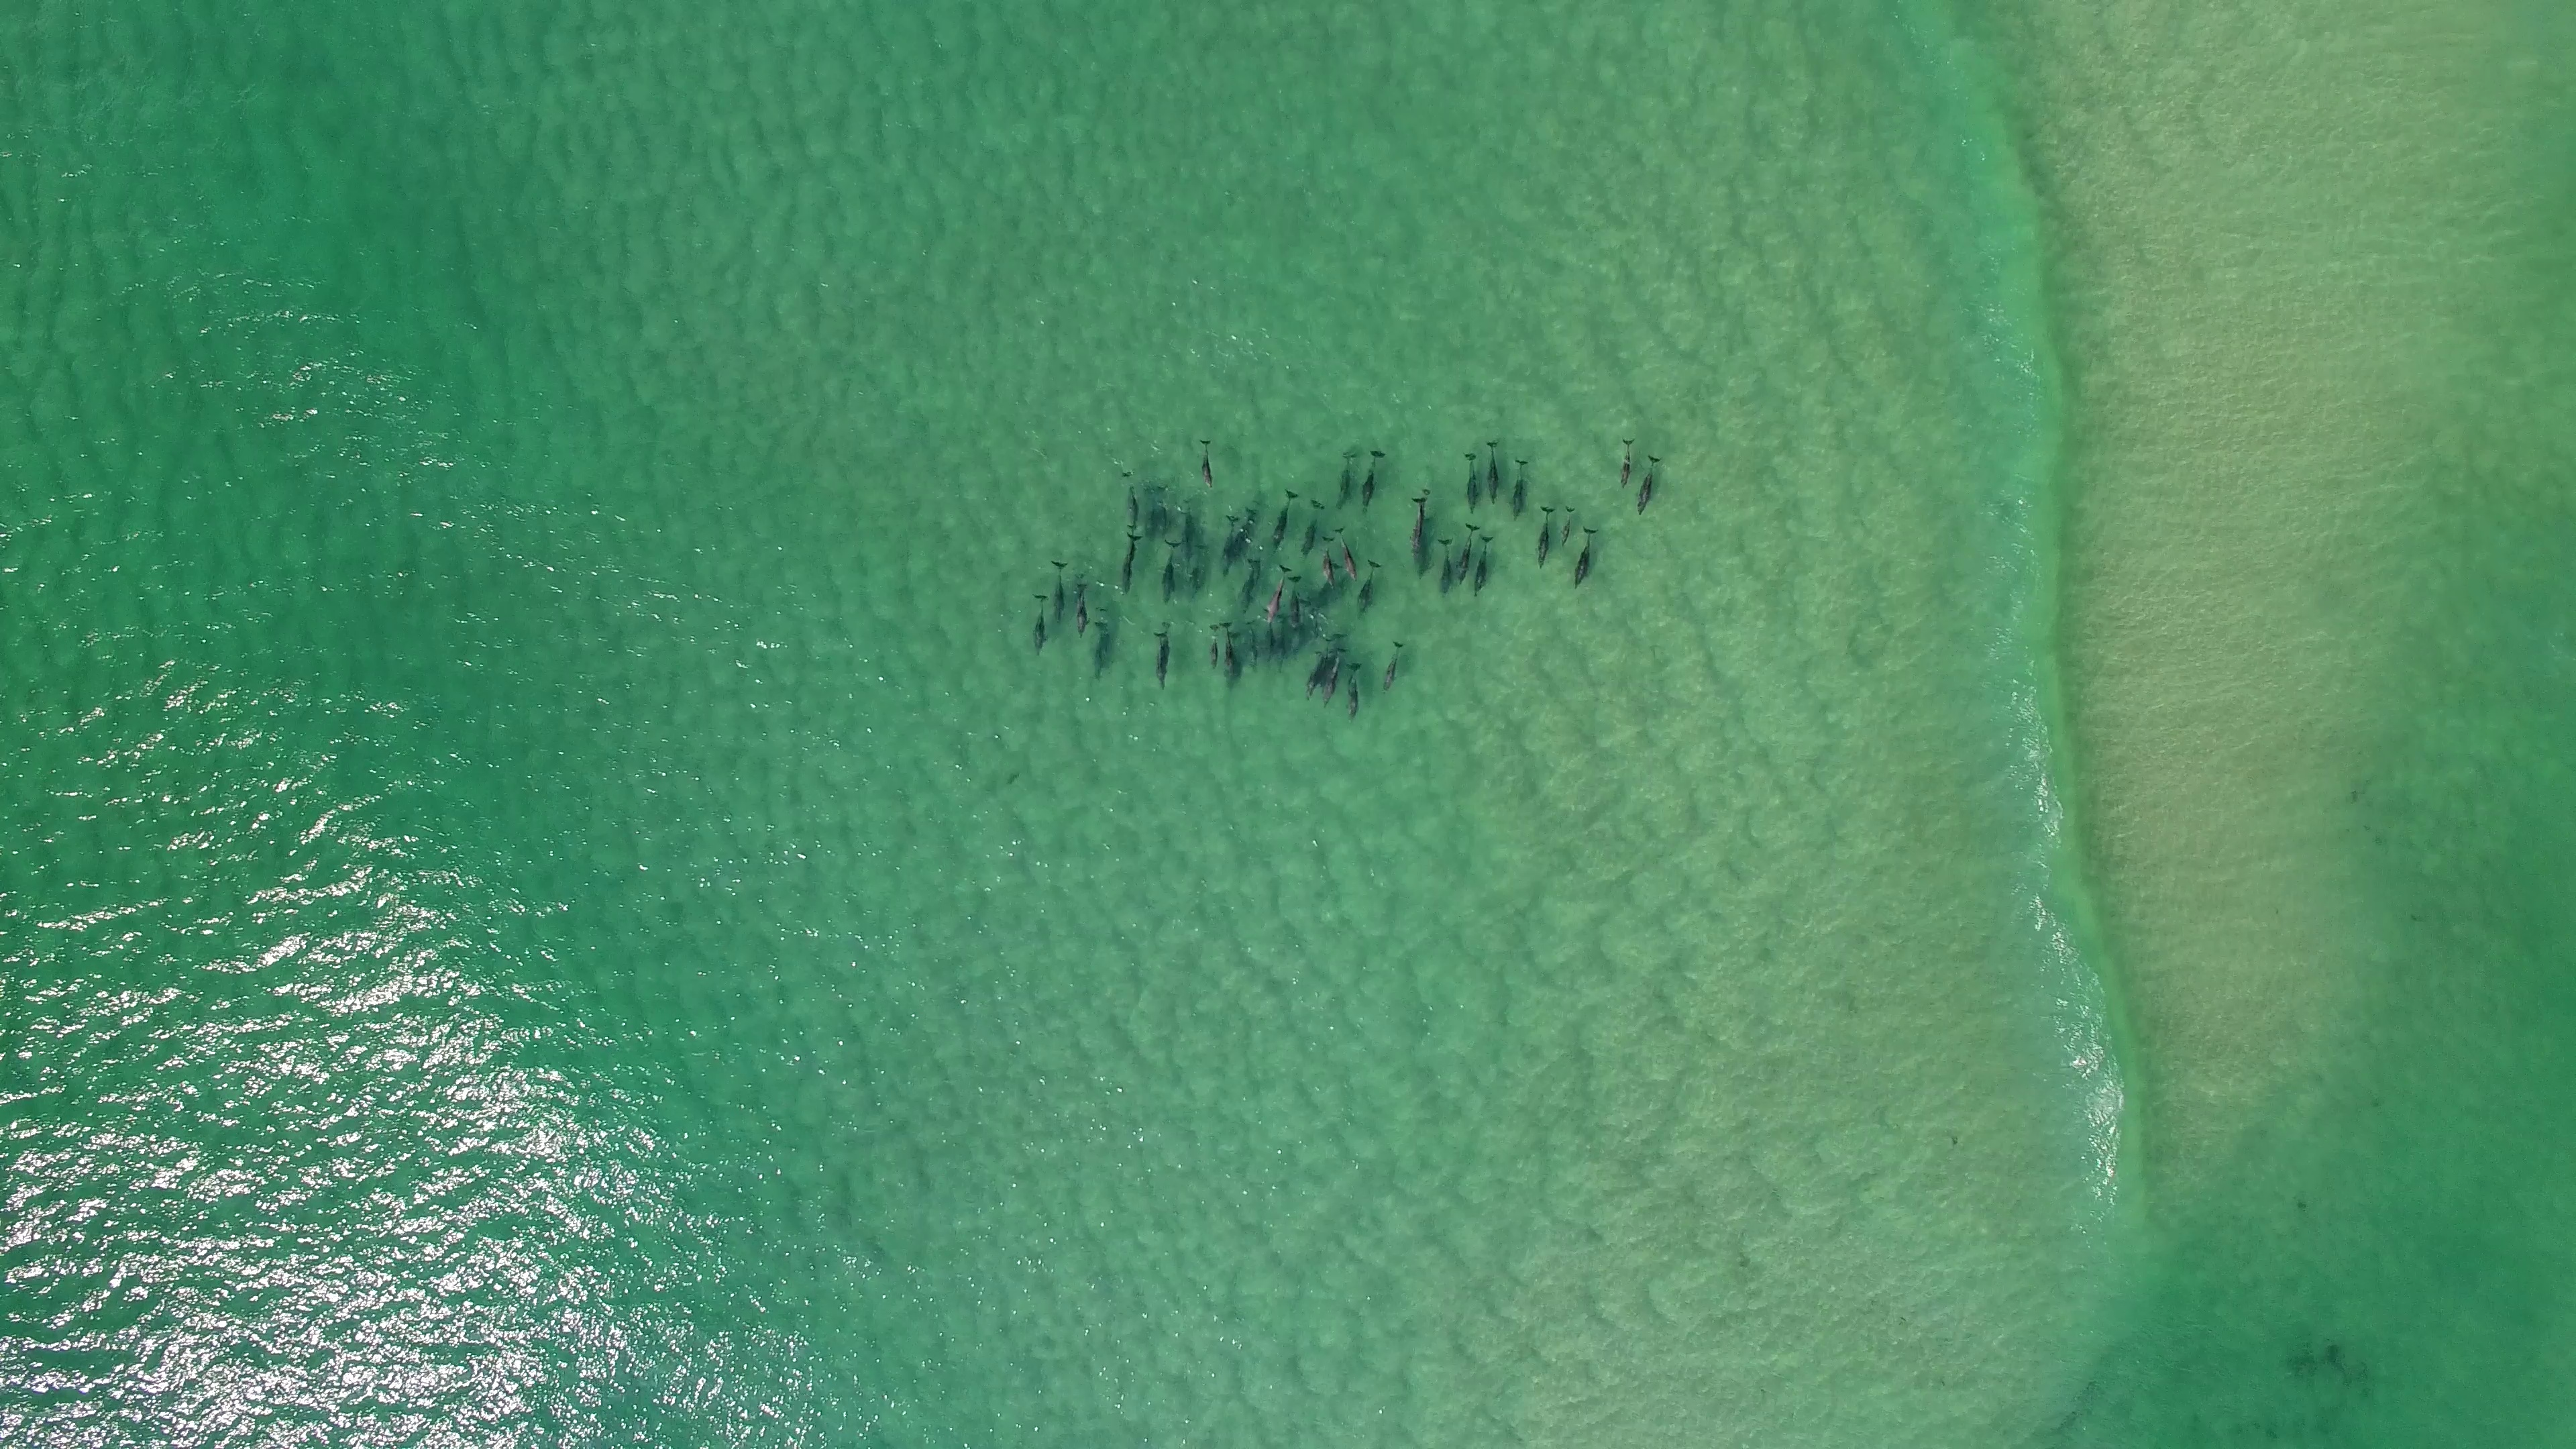dolphin: (1302, 637, 1336, 704), (1318, 646, 1350, 709), (1637, 449, 1663, 520), (1361, 449, 1391, 511), (1334, 446, 1361, 511), (1332, 525, 1362, 582), (1120, 471, 1146, 534), (1532, 504, 1557, 570), (1575, 524, 1598, 591), (1265, 563, 1290, 625), (1472, 533, 1495, 596), (1456, 524, 1479, 586), (1274, 487, 1297, 548), (1238, 557, 1263, 614), (1513, 455, 1534, 518), (1049, 559, 1069, 626), (1359, 559, 1382, 616), (1178, 499, 1200, 559), (1410, 485, 1433, 540), (1382, 639, 1403, 697), (1433, 534, 1453, 598), (1302, 499, 1323, 557), (1221, 513, 1240, 577), (1189, 541, 1210, 600), (1093, 610, 1111, 679), (1030, 591, 1047, 658), (1159, 540, 1177, 607), (1235, 504, 1260, 552), (1345, 663, 1362, 727), (1152, 628, 1168, 695), (1242, 621, 1261, 676), (1122, 531, 1138, 596), (1198, 435, 1217, 488), (1486, 439, 1500, 508), (1463, 449, 1477, 517), (1412, 495, 1426, 563), (1155, 483, 1171, 541), (1619, 433, 1635, 490), (1288, 575, 1304, 632), (1219, 621, 1233, 683), (1228, 632, 1244, 686), (1159, 619, 1175, 671), (1076, 580, 1088, 644), (1559, 502, 1576, 547), (1322, 534, 1336, 587), (1205, 623, 1219, 671), (1263, 621, 1276, 667)
